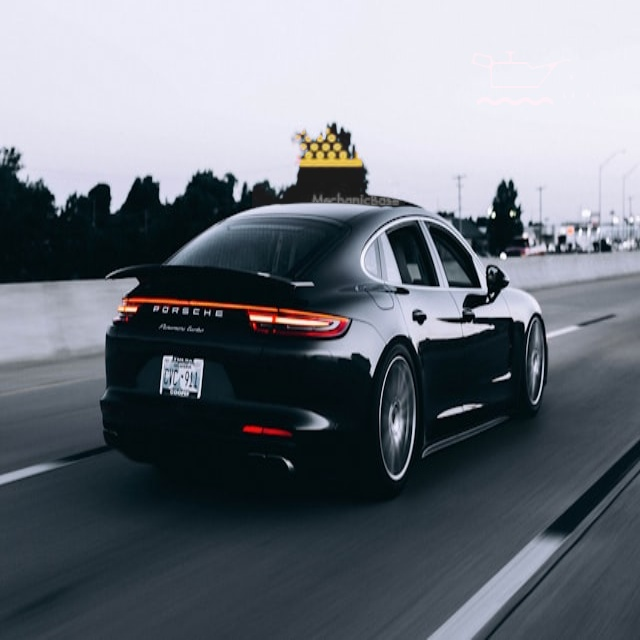symbol: (252, 60, 405, 213), (461, 9, 603, 151)
